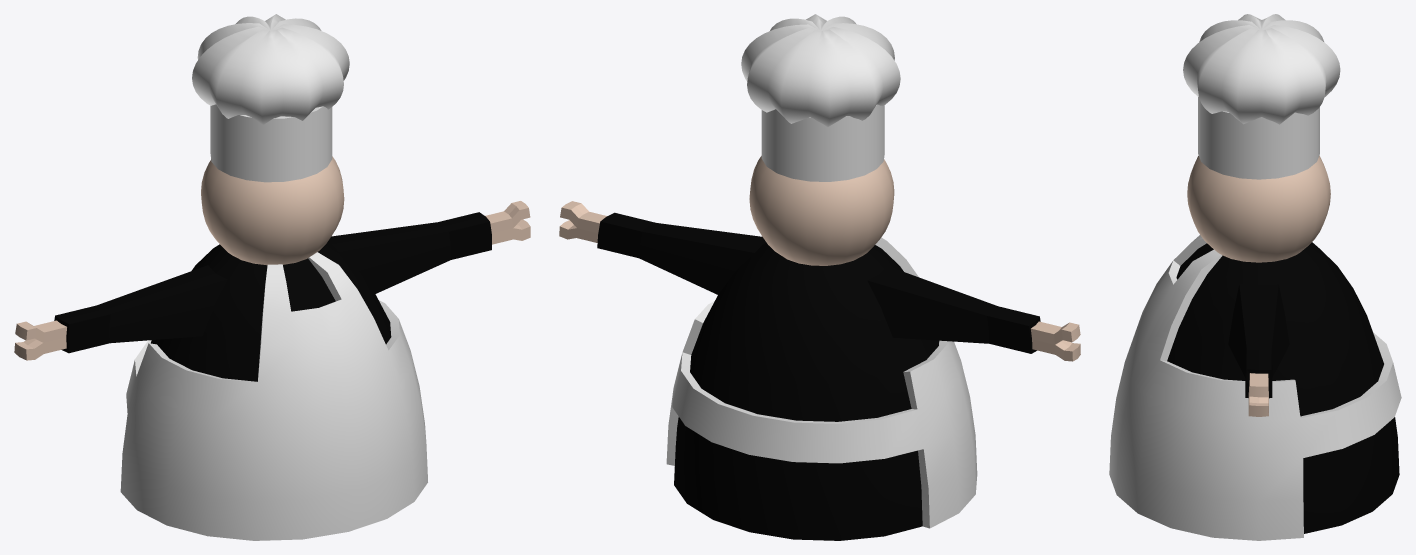
File: Character.fbx
3 views of the same model, side by side, from view 1: azimuth 30°, elevation 25°; view 2: azimuth 150°, elevation 25°; view 3: azimuth 270°, elevation 25° (orthographic).
Parts seen in each view (by area): view 1: pCylinder2; view 2: pCylinder2; view 3: pCylinder2.
Part boxes in pixels (x1,y1,x2,y2): pCylinder2: (14,14,530,540); pCylinder2: (559,14,1080,540); pCylinder2: (1109,14,1401,540).
Size of the model in its own units: 2.78 by 2.36 by 1.39.
